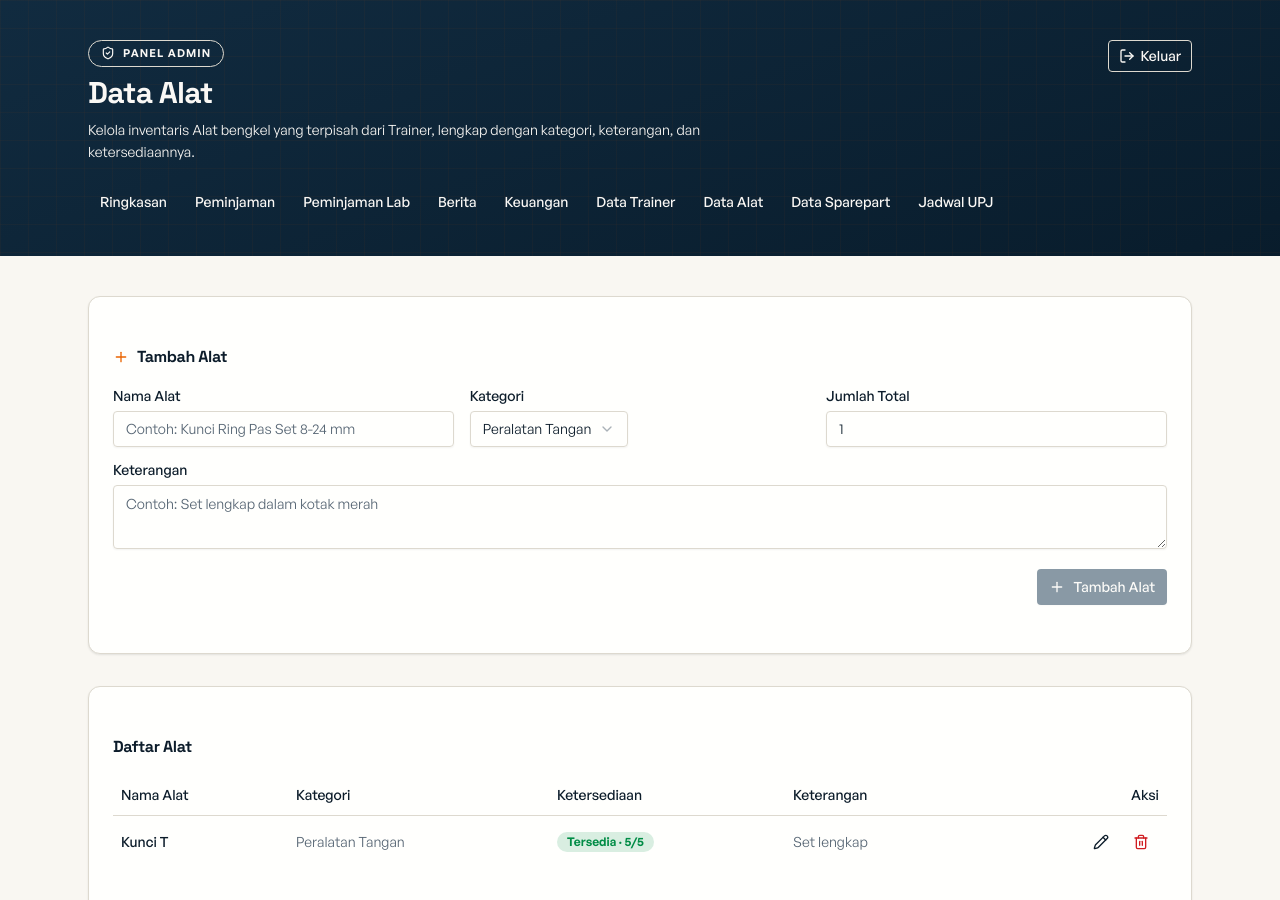
Test: AdminAlat › loads an existing alat into the form for editing
Click the button with test id "alat.edit_button.1": coordinates (1101, 842) [1083,824,1119,860]
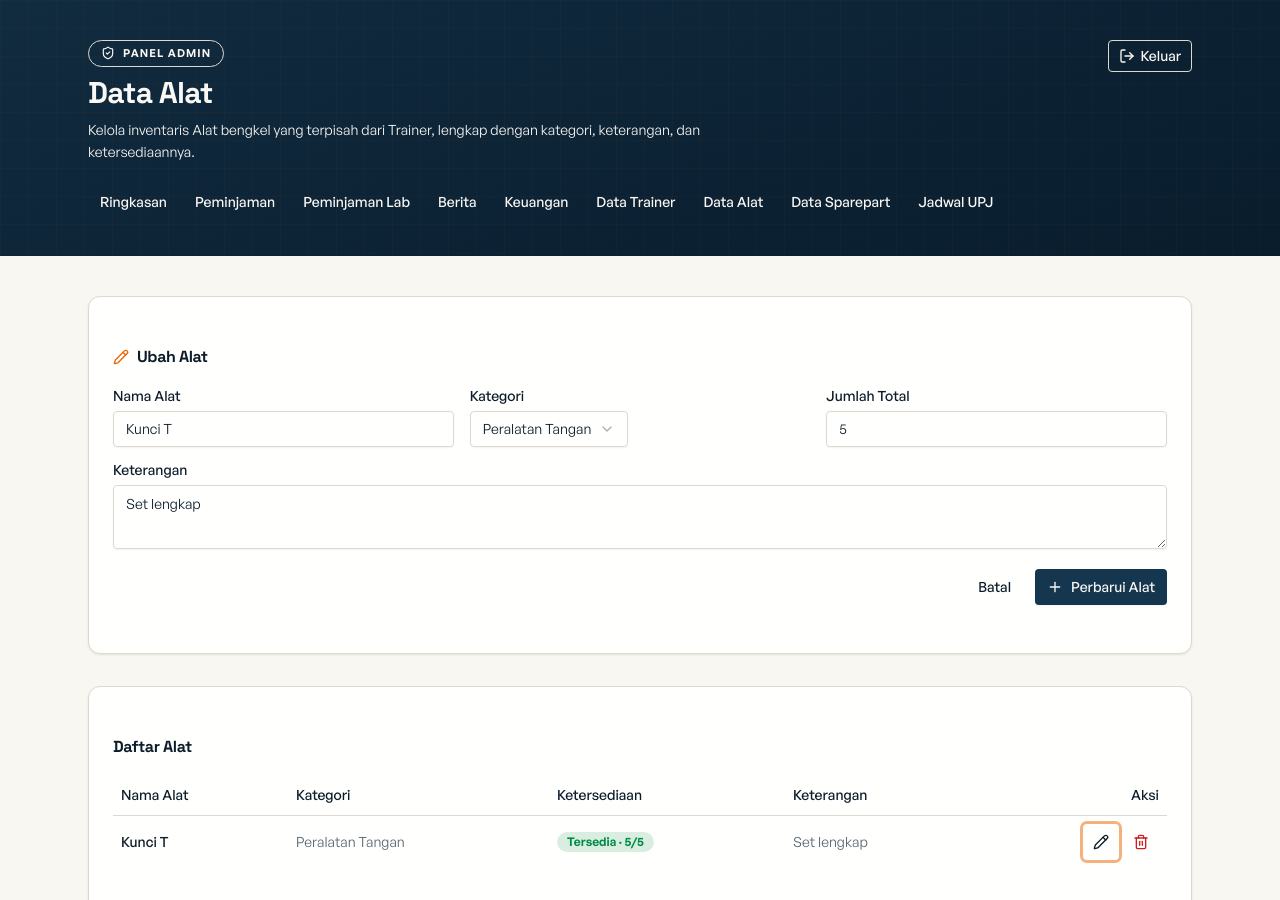
Now the field with test id "alat.nama.input" holds "Kunci T", box [113,411,454,447]
Now the number field with test id "alat.total.input" holds "5", box [826,411,1167,447]
Now the button "Perbarui Alat" is shown, box [1035,569,1167,605]
